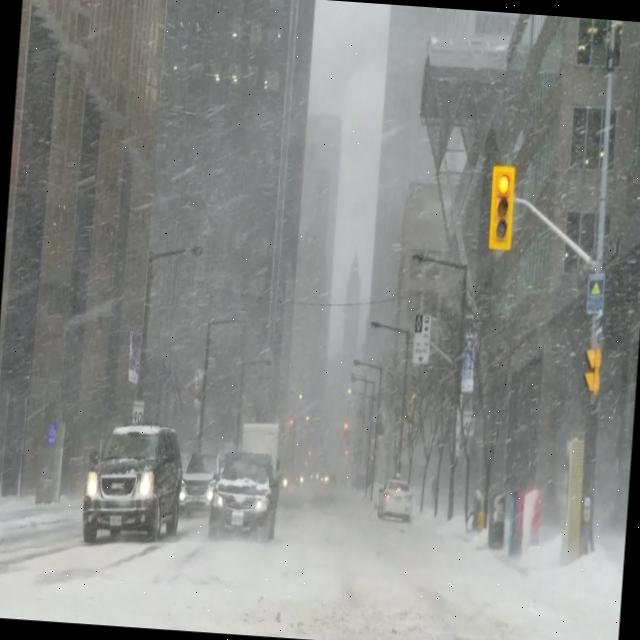car: (80, 419, 190, 549), (202, 446, 281, 542), (179, 450, 218, 508), (376, 477, 414, 522)
